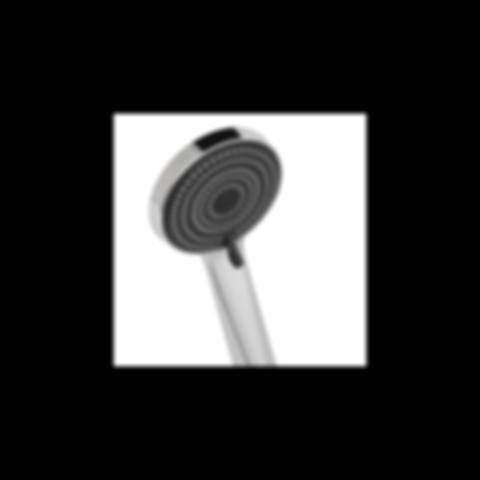Ducha: (147, 123, 307, 366)
